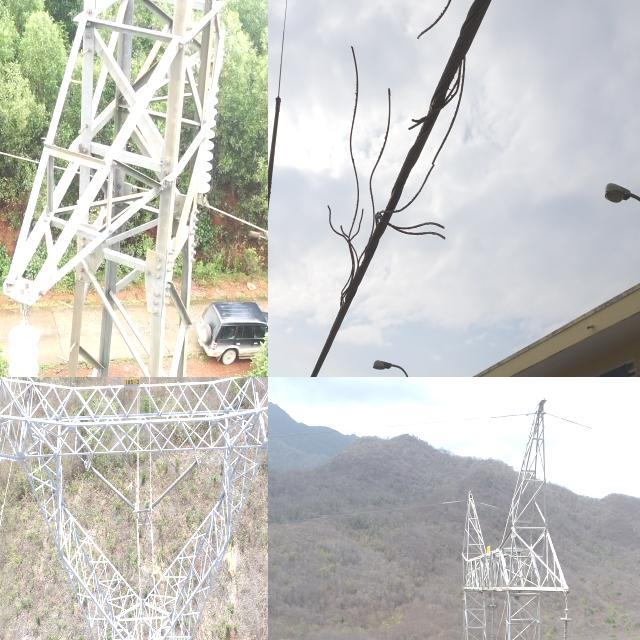杆塔: (0, 0, 239, 377), (0, 377, 268, 640), (445, 391, 583, 640)
正常电缆: (0, 137, 268, 246)
正常绝缘子: (0, 297, 46, 377), (83, 456, 139, 517), (148, 455, 201, 516), (489, 602, 496, 640), (461, 600, 465, 640)
电缆破损: (320, 0, 522, 322)
